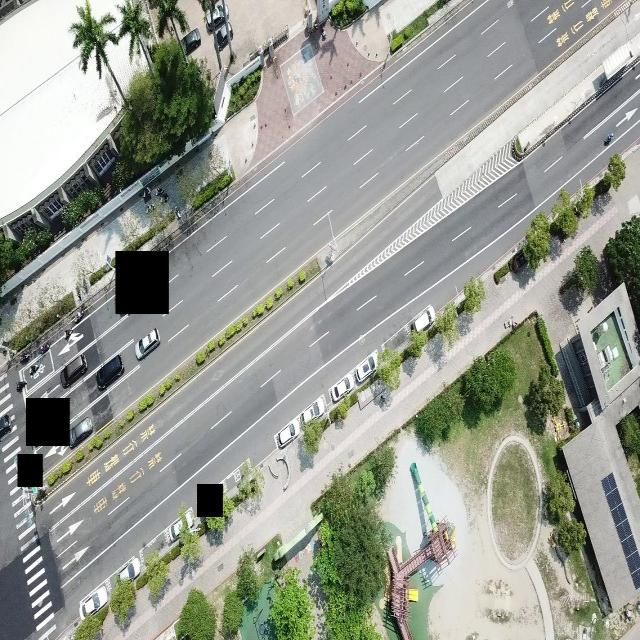bike: (74, 307, 84, 322), (604, 132, 613, 145), (39, 342, 49, 353)
car: (78, 583, 108, 620), (96, 353, 124, 390), (161, 516, 197, 544), (60, 352, 87, 388), (134, 326, 160, 360), (328, 372, 355, 404), (354, 348, 378, 383), (300, 394, 326, 426), (69, 416, 93, 449), (410, 304, 436, 334), (269, 422, 300, 446), (205, 1, 229, 30), (117, 556, 141, 583), (213, 19, 233, 51), (181, 28, 201, 54)
